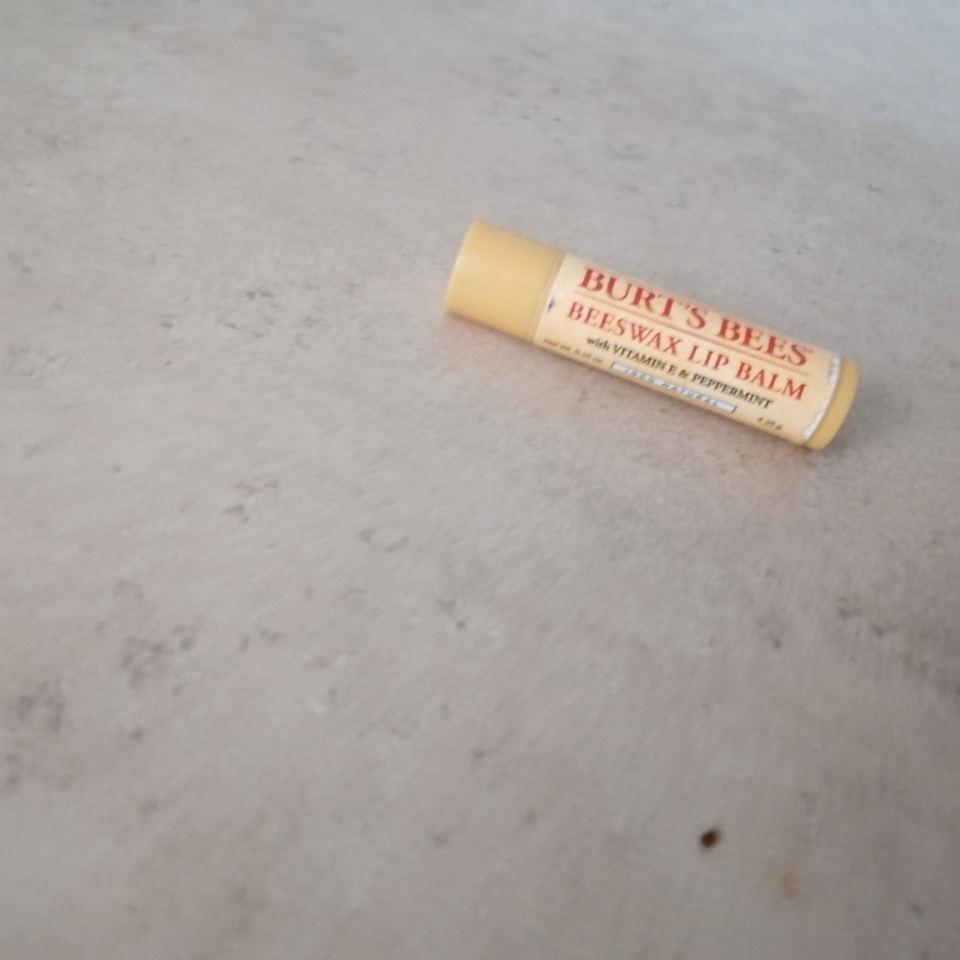chapstick: (445, 217, 859, 453)
